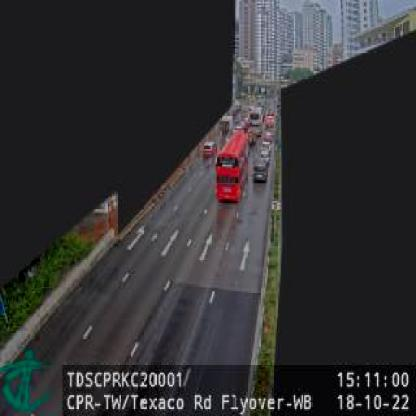Bus: (215, 134, 247, 204), (248, 104, 263, 133)
Car: (254, 160, 269, 184), (201, 139, 217, 160), (259, 140, 270, 158), (263, 128, 273, 142)
Truck: (218, 116, 234, 139)
